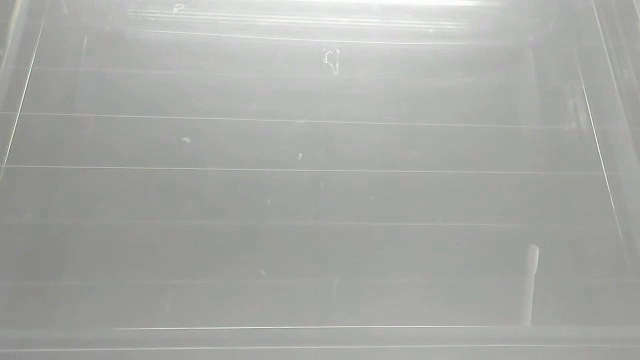alpha: (519, 241, 543, 328)
